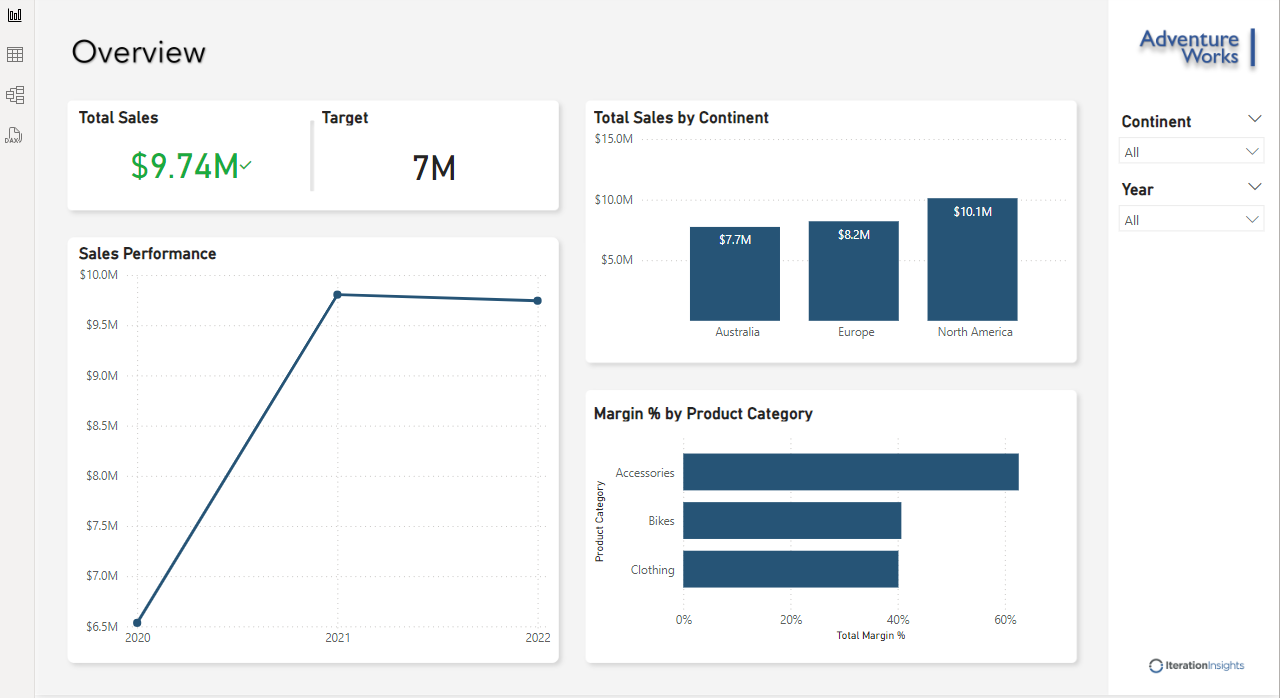

The page's visual inventory and layout, read from the dashboard file:
{"tool":"powerbi","page":{"name":"Overview","canvas":[1280,720],"ordinal":0},"visuals":[{"type":"slicer","title":"Slicer Year","fields":{"Values":["Order Date.Order Date Year"]},"box":[1105,185,170,70.3],"z":6000},{"type":"slicer","title":"Slicer Continent","fields":{"Values":["Sales Territory.Sales Territory Continent"]},"box":[1105,115,170,70],"z":6015},{"type":"clusteredBarChart","title":"Margin % by Product Category","fields":{"Category":["Product.Product Hierarchy.Product Category","Product.Product Hierarchy.Product Subcategory"],"Y":["Sales.Total Margin %"]},"box":[570,420,500,250],"z":6031},{"type":"lineChart","title":"Sales Performance","fields":{"Y":["Sales.Total Sales"],"Category":["Order Date.Order Date Hierarchy.Order Date Year","Order Date.Order Date Hierarchy.Order Date Month","Order Date.Order Date Hierarchy.Order Date"]},"box":[40,255,495,425],"z":6062},{"type":"clusteredColumnChart","title":"Total Sales by Continent","fields":{"Category":["Sales Territory.Sales Territory Continent"],"Y":["Sales.Total Sales"]},"box":[570,115,500,250],"z":6125},{"type":"card","title":"Target","fields":{"Values":["Sales.Target"]},"box":[290,115,240,100],"z":6250},{"type":"kpi","title":"Total Sales ","fields":{"Indicator":["Sales.Total Sales"],"TrendLine":["Order Date.Order Date Year"],"Goal":["Sales.Target"]},"box":[40.2,115,240,100],"z":6500}]}

Visuals, with their boxes on the page's 1280x720 design canvas (x1, y1, x2, y2). These are canvas units, not pixel positions in the 1281x698 screenshot, which may show the page scaled, cropped or inside an application window:
"Slicer Year" slicer: <region>1105, 185, 1275, 255</region>
"Slicer Continent" slicer: <region>1105, 115, 1275, 185</region>
"Margin % by Product Category" clusteredBarChart: <region>570, 420, 1070, 670</region>
"Sales Performance" lineChart: <region>40, 255, 535, 680</region>
"Total Sales by Continent" clusteredColumnChart: <region>570, 115, 1070, 365</region>
"Target" card: <region>290, 115, 530, 215</region>
"Total Sales " kpi: <region>40, 115, 280, 215</region>
